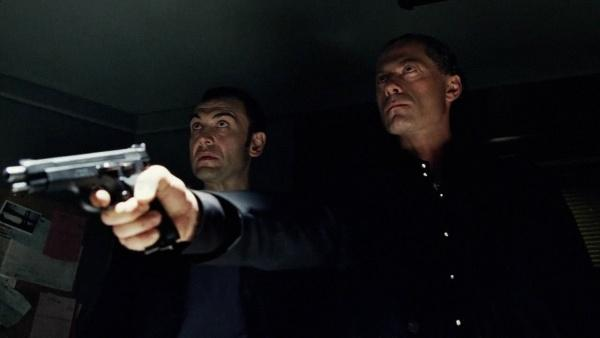Gun: (5, 142, 175, 256)
